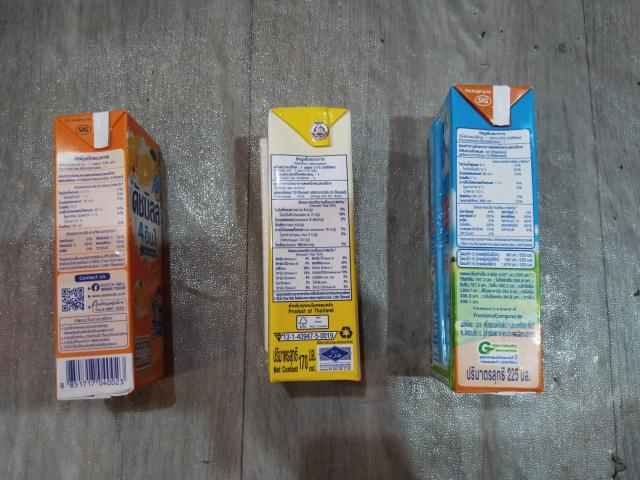drink_box: (424, 84, 552, 400), (50, 111, 176, 403), (259, 104, 370, 388)
